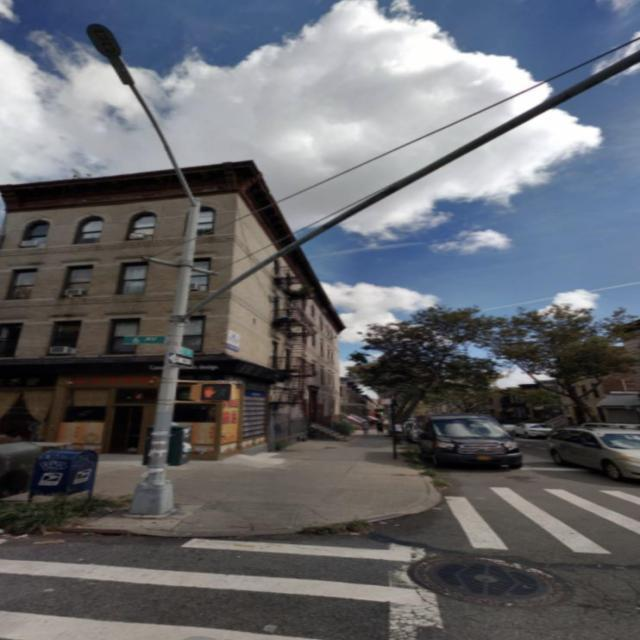off: (90, 0, 180, 460)
